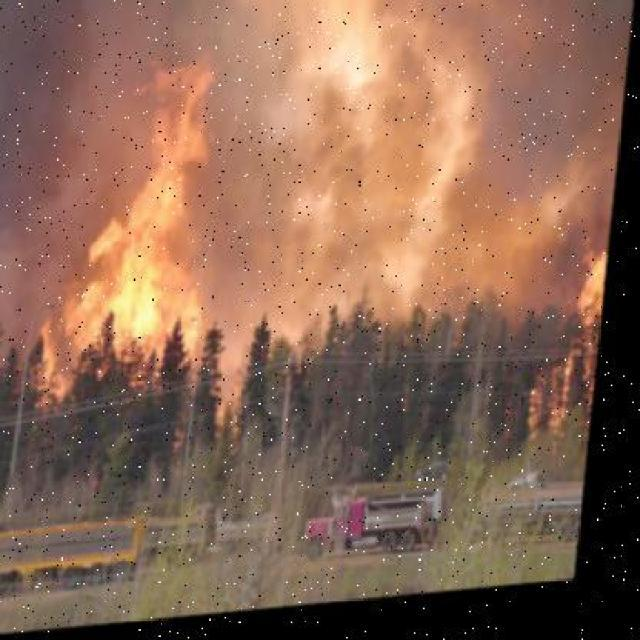Fire: (42, 52, 220, 372)
